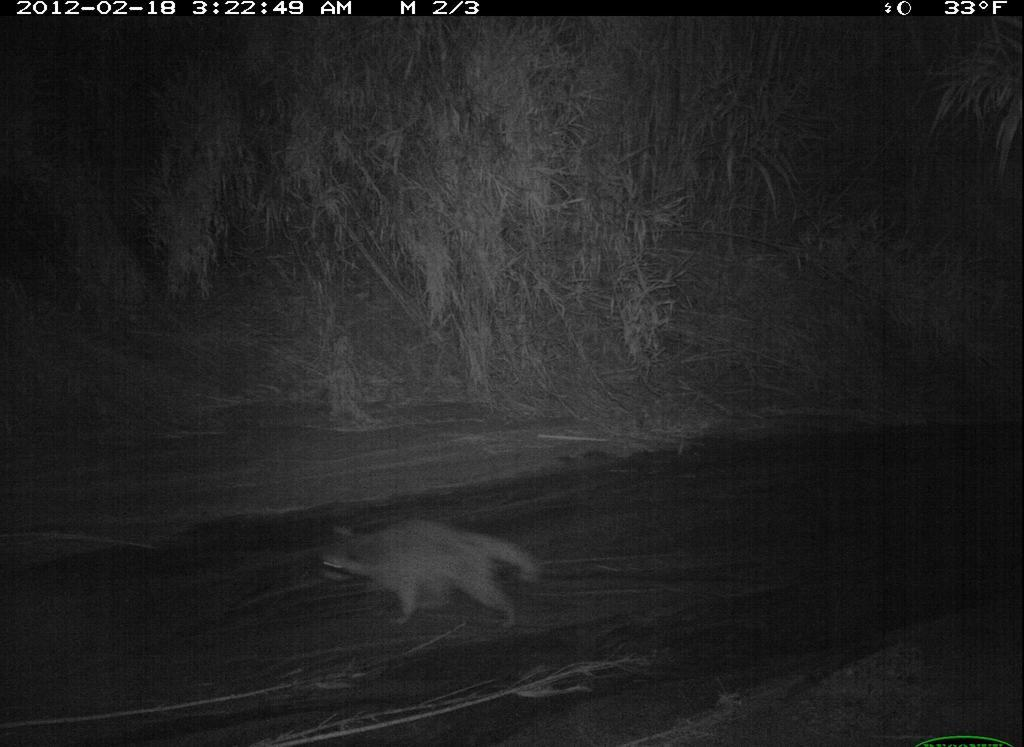raccoon: (313, 516, 552, 641)
